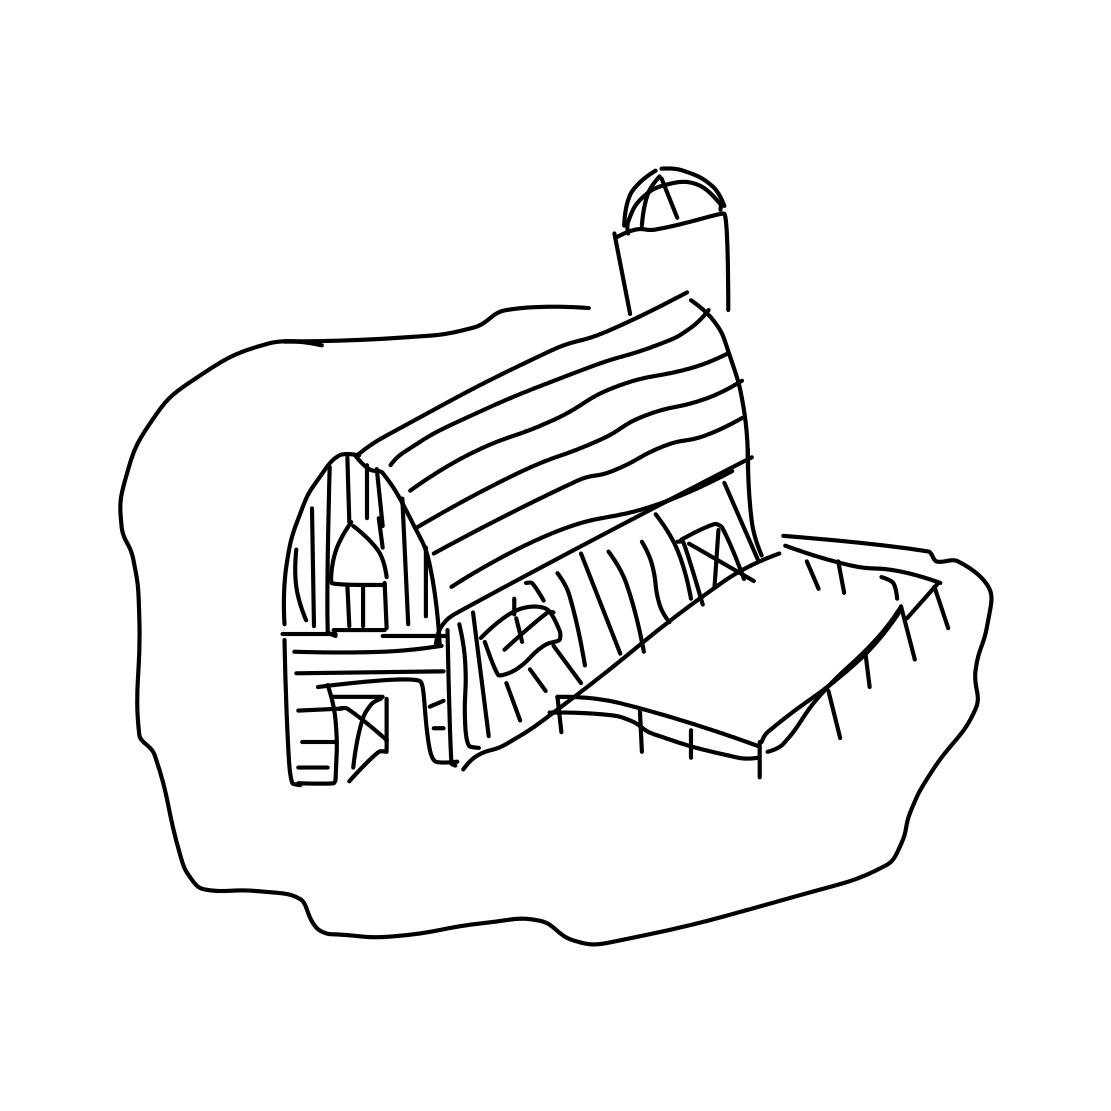House: (248, 293, 773, 783)
